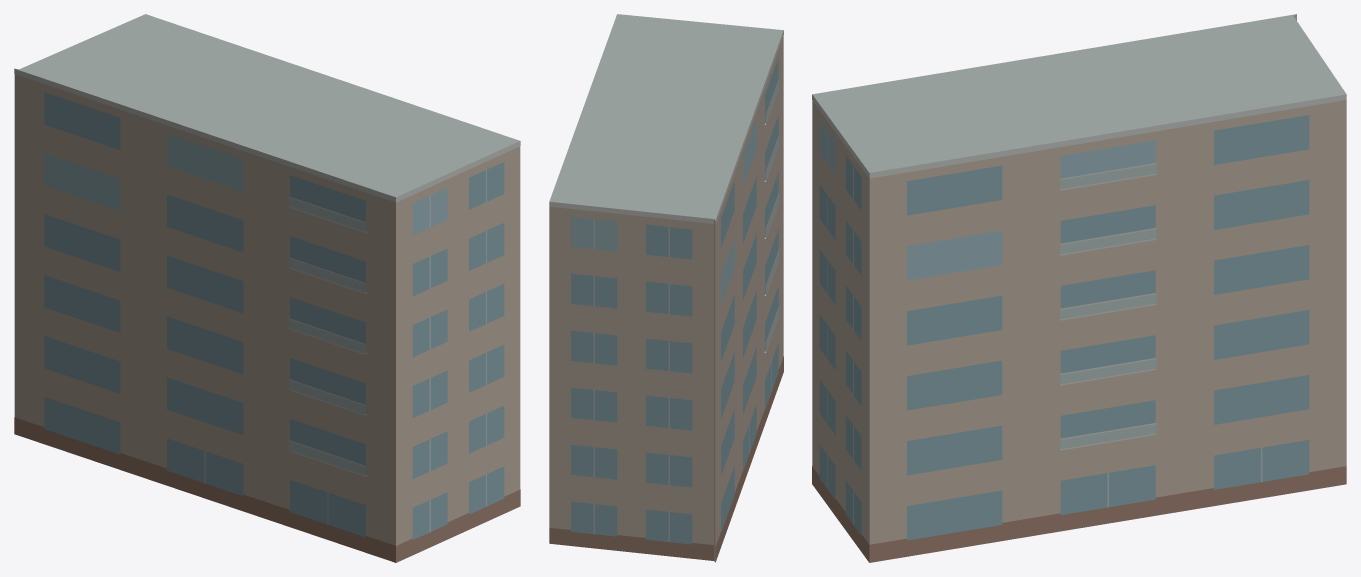
File: survey-upis-32865465.glb
3 views of the same model, side by side, from view 1: azimuth 30°, elevation 25°; view 2: azimuth 150°, elevation 25°; view 3: azimuth 270°, elevation 25° (orthographic). The views are drawn at different scales.
Parts seen in each view (by area): view 1: survey-upis-32865465.tmp; view 2: survey-upis-32865465.tmp; view 3: survey-upis-32865465.tmp.
Part boxes in pixels (bbox=[...]): survey-upis-32865465.tmp: bbox=[14, 14, 520, 562]; survey-upis-32865465.tmp: bbox=[549, 14, 783, 562]; survey-upis-32865465.tmp: bbox=[812, 14, 1346, 562].
Bounding box in the file's own units: 14.85 × 16.96 × 21.08.
